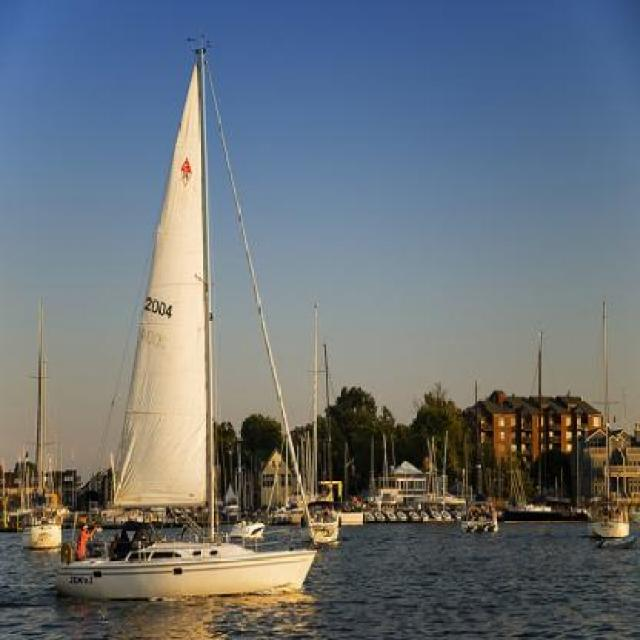ship: (56, 27, 327, 610), (580, 292, 634, 546), (16, 298, 62, 547), (302, 296, 340, 546), (460, 375, 498, 528), (226, 510, 266, 538)
